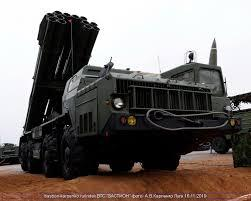MIL_SAM_TEL: (14, 9, 236, 179)
